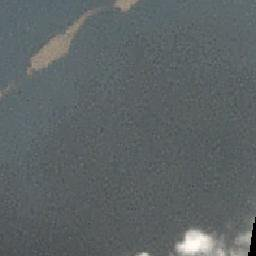cloud: (169, 222, 241, 256)
debris: (61, 1, 137, 29), (30, 32, 72, 74)
